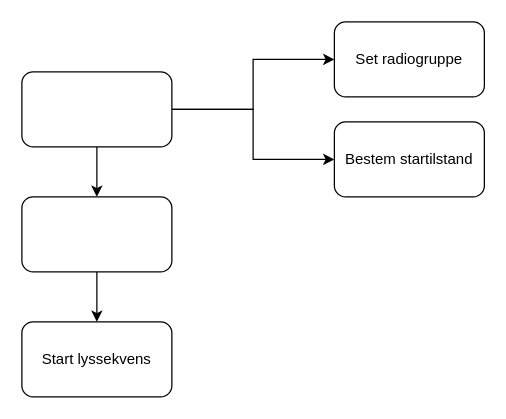
This 506x419 diagram has some shape labels left out. The box of each missing label's shape, as (x1, y1, x2, y2) in pixels:
Reset: (21, 71, 172, 147)
Vent på startsignal: (21, 196, 172, 272)
